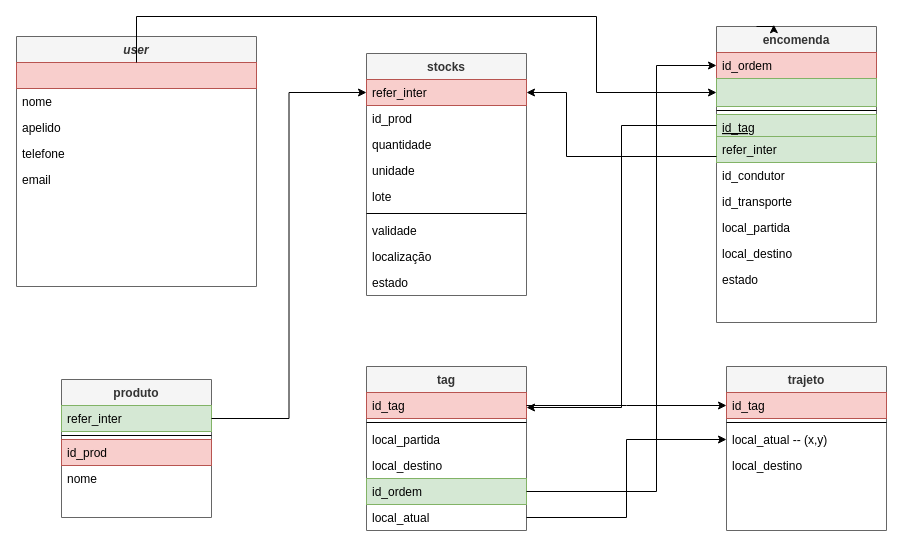
This 903x547 diagram has some shape labels left out. The centre of each missing label's shape, as x and y in pixels:
id_user: the point at 796,92
user_id: the point at 136,75
